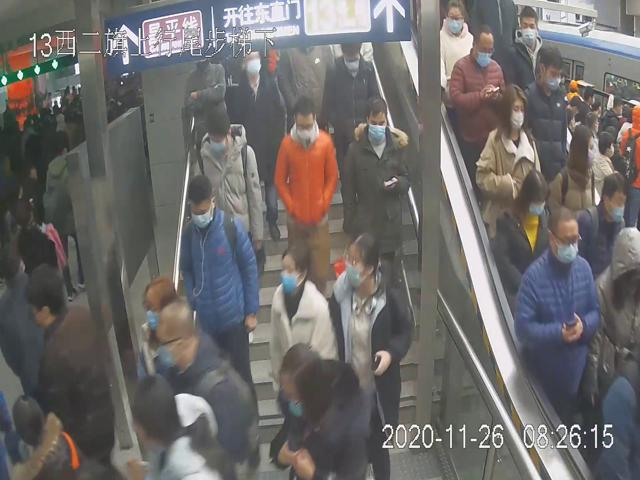person: (174, 171, 266, 438), (327, 225, 414, 464), (509, 200, 604, 417), (339, 94, 414, 295), (270, 89, 338, 292), (187, 103, 264, 268), (264, 243, 337, 402), (474, 80, 546, 238), (445, 22, 516, 171), (490, 166, 553, 300), (321, 35, 378, 148)
